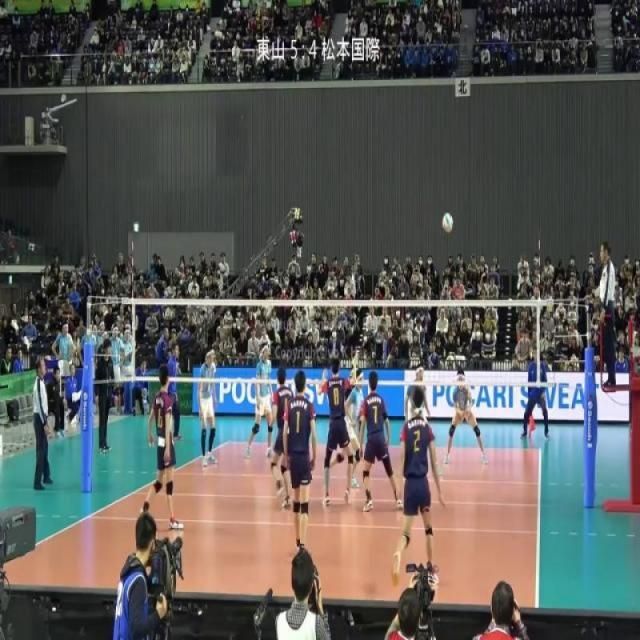volleyball: (442, 211, 454, 233)
